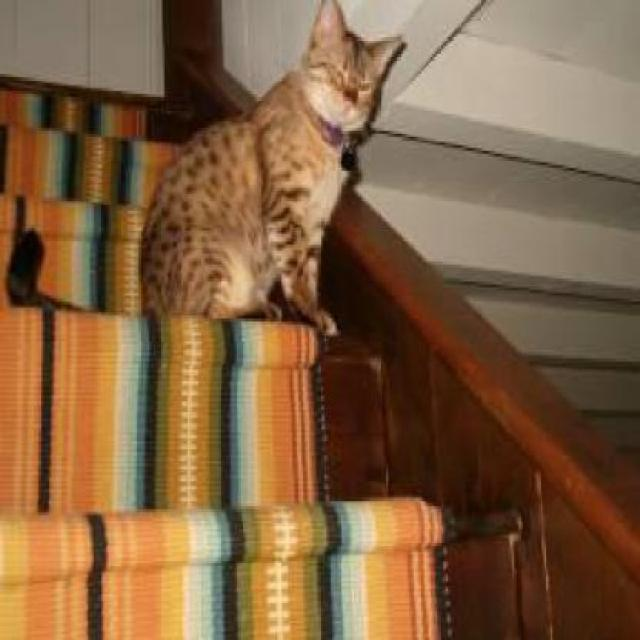cat: (6, 0, 406, 334)
